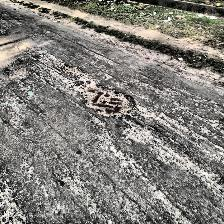pothole: (75, 80, 135, 118), (62, 64, 82, 74)
